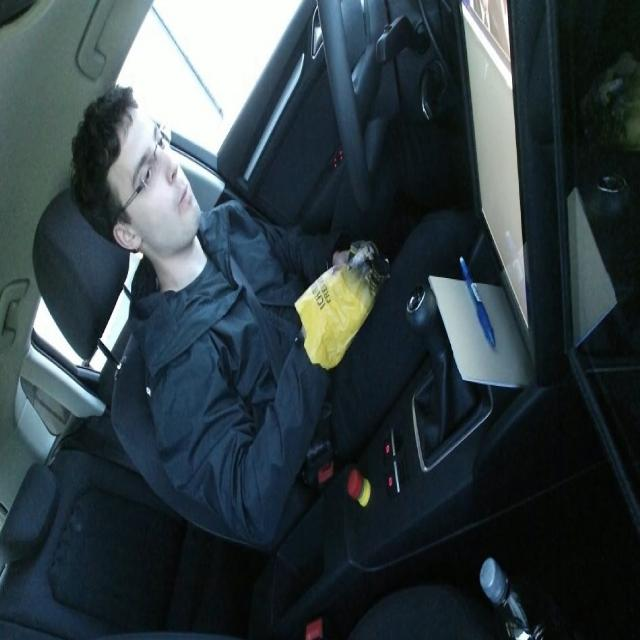pen: (458, 253, 496, 349)
